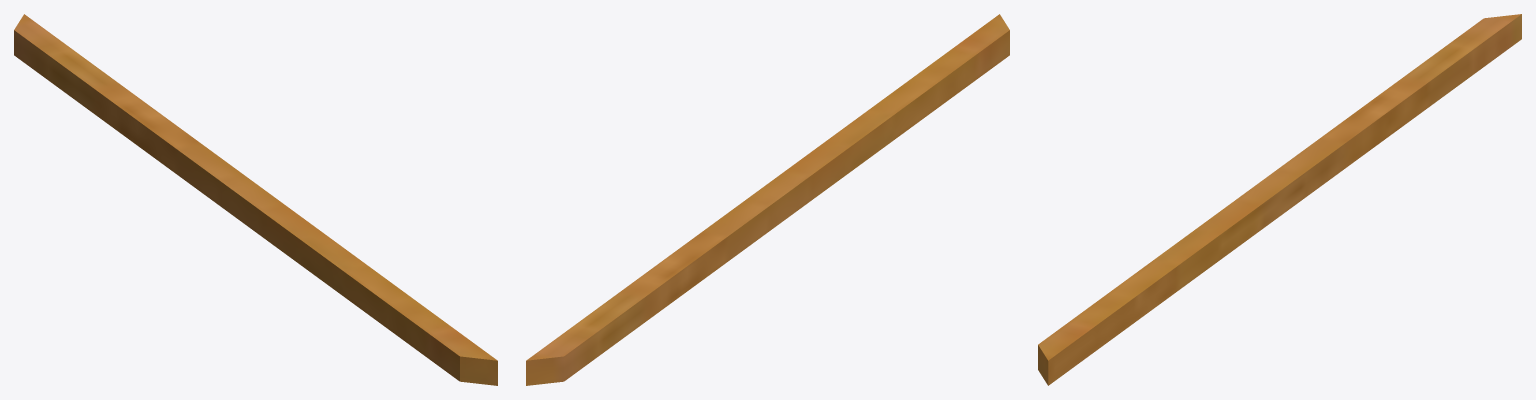
The model's file is original-17.obj.
3 views of the same model, side by side, from view 1: azimuth 30°, elevation 25°; view 2: azimuth 150°, elevation 25°; view 3: azimuth 330°, elevation 25° (orthographic).
Visible parts, largest first — view 1: trimshort2/trimshort/mesh62/mesh62-geometry#mesh62-geometry; view 2: trimshort2/trimshort/mesh62/mesh62-geometry#mesh62-geometry; view 3: trimshort2/trimshort/mesh62/mesh62-geometry#mesh62-geometry.
Part boxes in pixels (x1,y1,x2,y2): trimshort2/trimshort/mesh62/mesh62-geometry#mesh62-geometry: (14,14,497,385); trimshort2/trimshort/mesh62/mesh62-geometry#mesh62-geometry: (526,14,1009,385); trimshort2/trimshort/mesh62/mesh62-geometry#mesh62-geometry: (1038,14,1521,385).
Bounding box in the file's own units: 0.024 × 0.024 × 0.8152.
